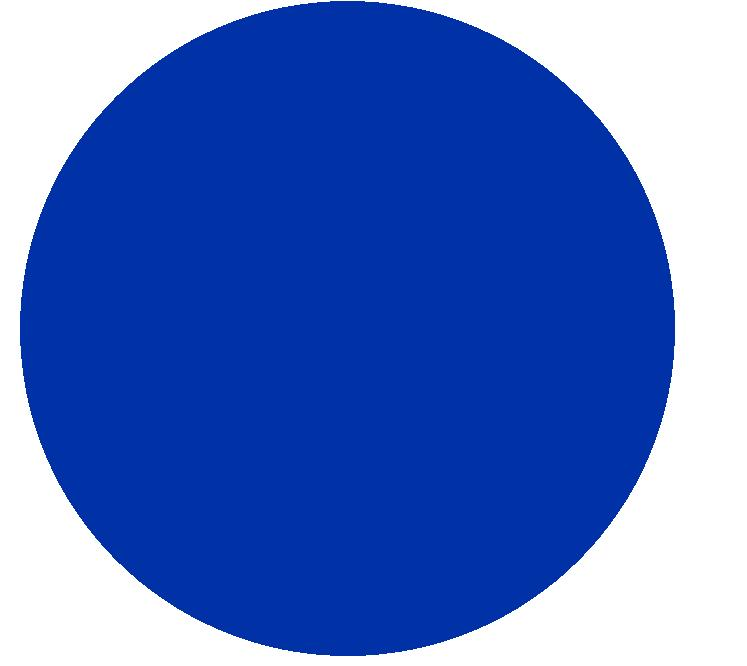blue_circle: (0, 2, 747, 666)
